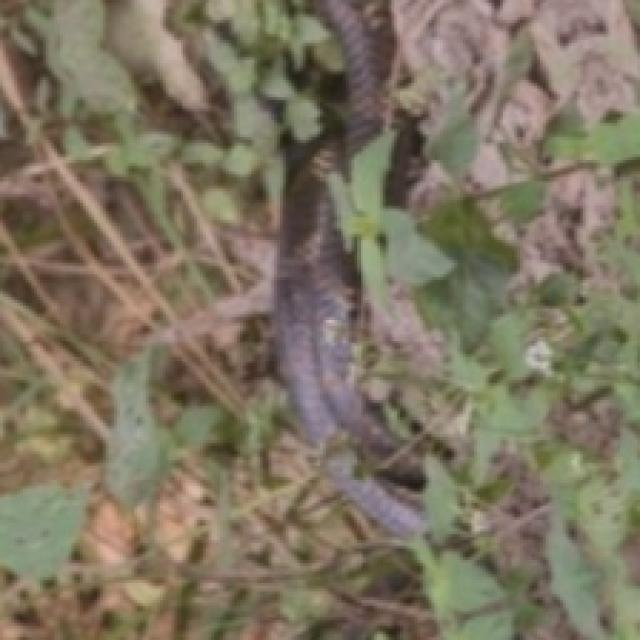king cobra: (274, 0, 423, 534)
